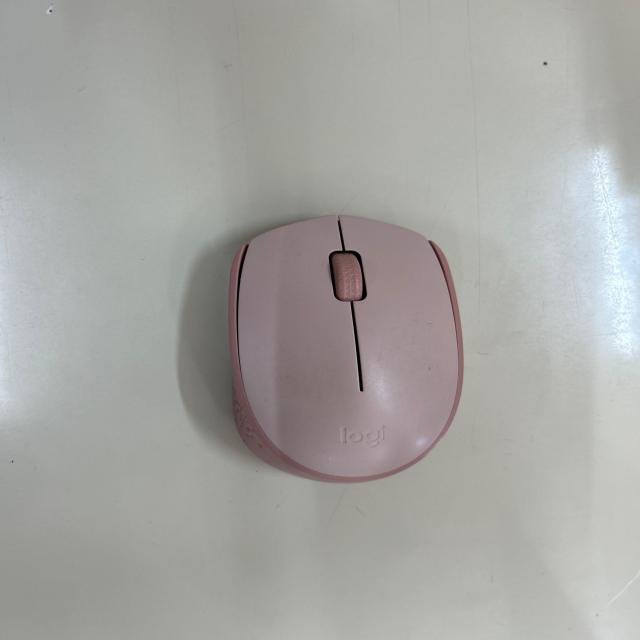inorganic: (233, 217, 468, 485)
